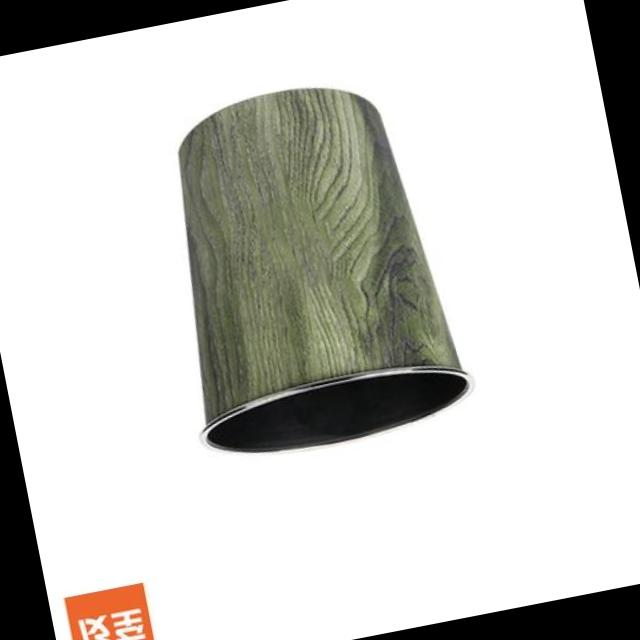dustbin: (136, 61, 484, 478)
